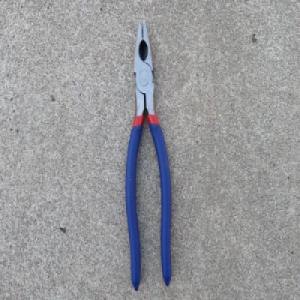Pliers: (124, 19, 172, 295)
